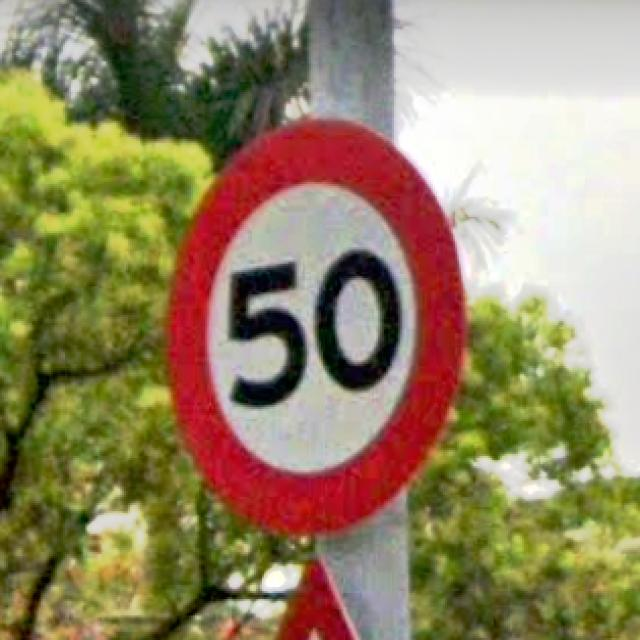max50: (160, 112, 470, 536)
